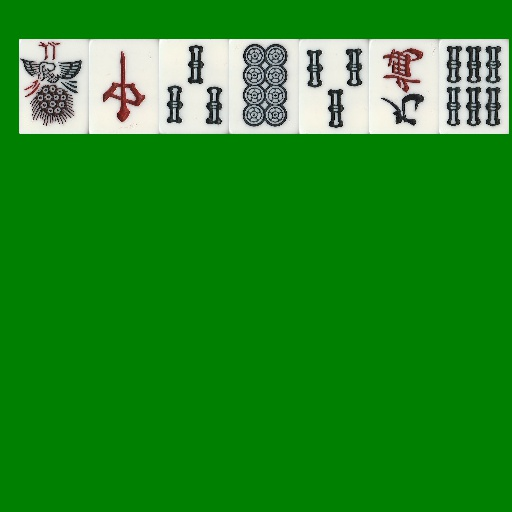1s: (19, 39, 89, 134)
3s: (159, 39, 229, 134), (299, 39, 369, 134)
6s: (439, 39, 509, 134)
8p: (229, 39, 299, 134)
9m: (369, 39, 439, 134)
tyun: (89, 39, 159, 134)
